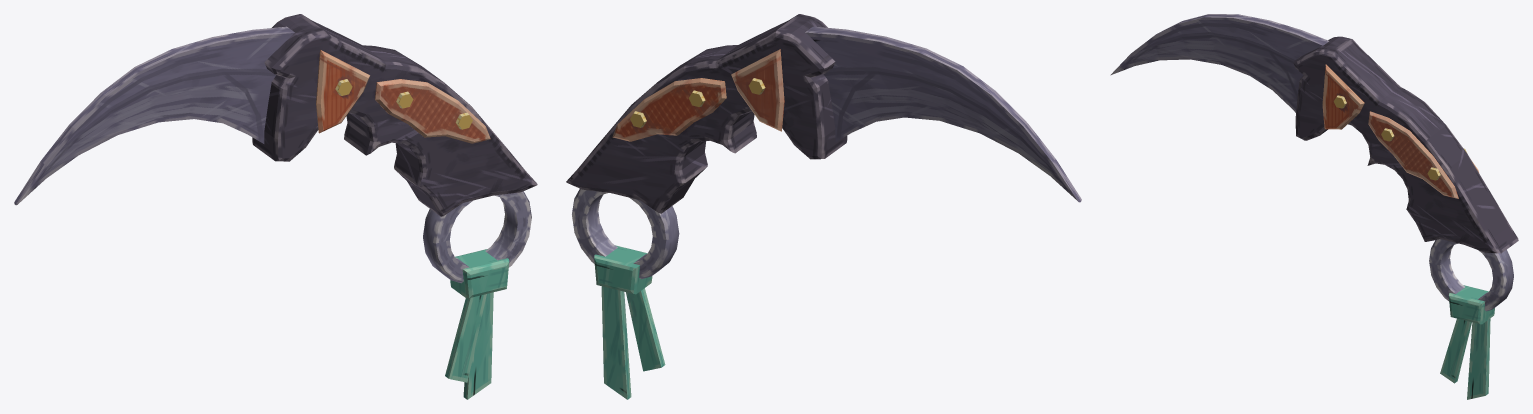
The model's file is knife.fbx.
The picture shows the model from 3 angles, left to right: view 1: azimuth 30°, elevation 25°; view 2: azimuth 150°, elevation 25°; view 3: azimuth 330°, elevation 25°; orthographic projection. The views are drawn at different scales.
Parts seen in each view (by area): view 1: knife; view 2: knife; view 3: knife.
Boxes of the visible parts, box(x1,y1,x2,y2) form: knife: box(14, 14, 537, 399); knife: box(566, 14, 1081, 399); knife: box(1110, 14, 1518, 399).
Size of the model in its own units: 0.7248 by 0.5719 by 0.0923.
Materials: 1 (1 with a texture image).
